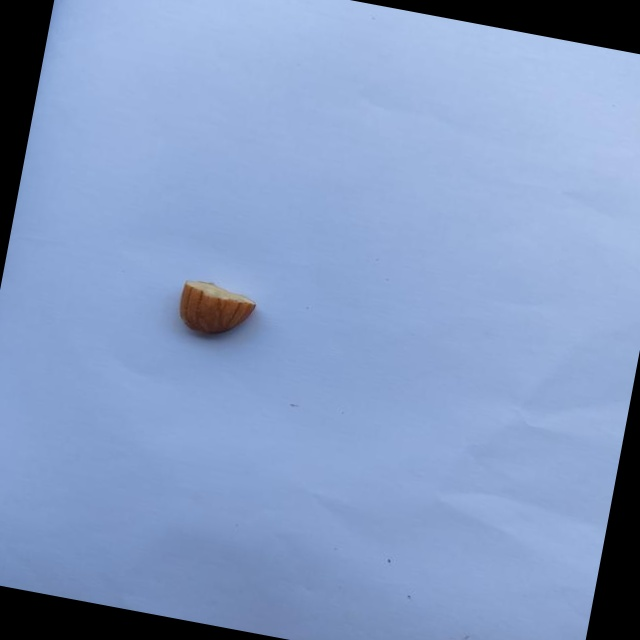grade4: (167, 272, 268, 351)
